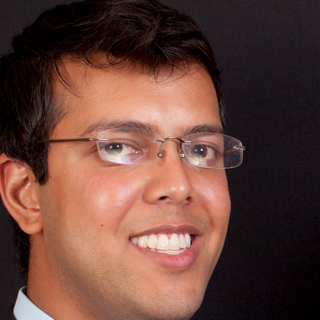eye: (93, 136, 145, 163), (182, 139, 224, 168)
